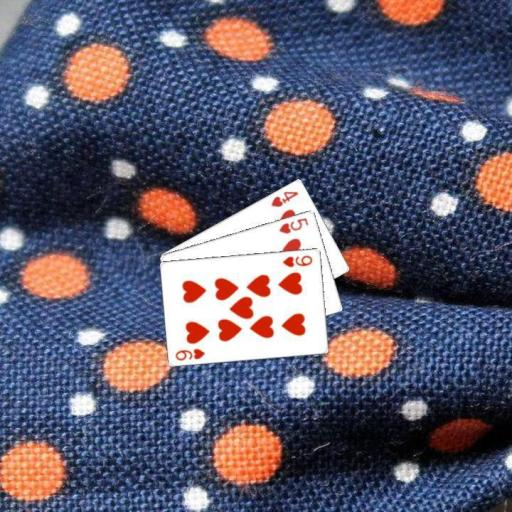card-corner: (276, 214, 310, 234), (268, 188, 300, 208), (280, 252, 314, 268), (173, 345, 206, 361)
